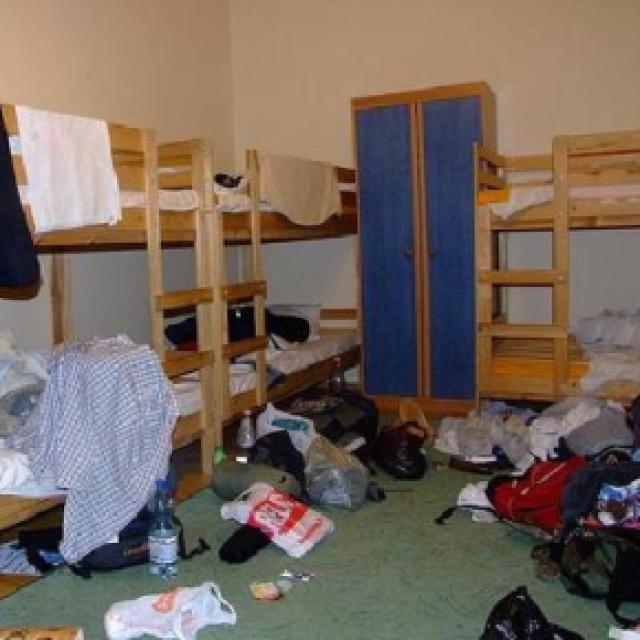mess: (179, 364, 640, 640)
